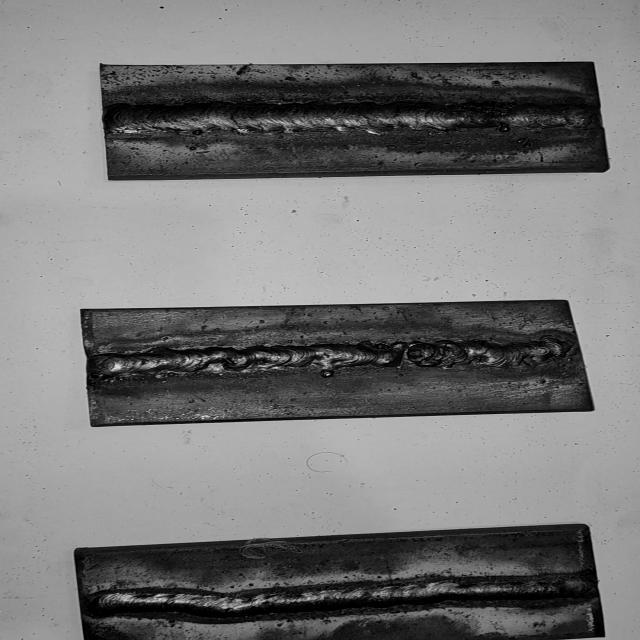Defect: (380, 332, 467, 382)
Welding Line: (85, 574, 596, 618), (88, 338, 575, 378), (109, 105, 598, 131)
Workpiece: (78, 295, 608, 431), (90, 52, 616, 188), (64, 515, 618, 640)
